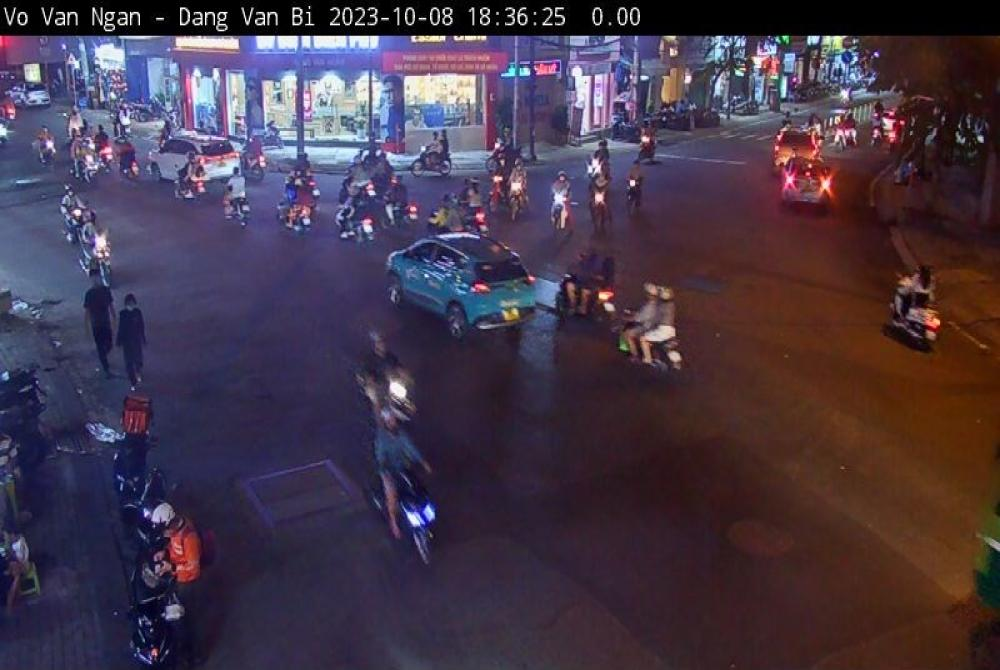car: (371, 226, 548, 332), (774, 147, 858, 226), (753, 116, 838, 182)
